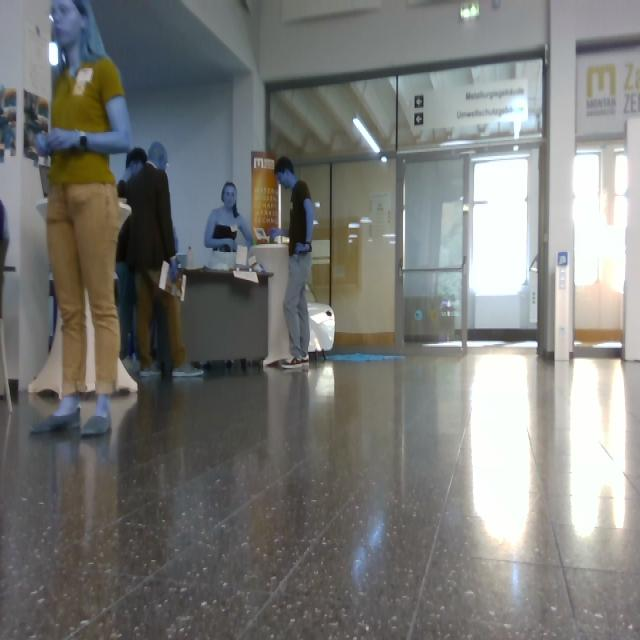desk: (182, 269, 273, 360)
door: (270, 58, 544, 357), (281, 186, 291, 230)
light bulb: (353, 117, 381, 153), (49, 41, 59, 66)
person: (35, 1, 132, 436), (127, 142, 203, 380), (276, 157, 315, 369), (205, 182, 253, 269), (117, 217, 139, 369), (119, 149, 147, 205)
pillar: (1, 1, 50, 389), (548, 1, 577, 362)
table: (252, 244, 290, 365), (29, 302, 62, 398), (80, 296, 99, 394), (117, 360, 137, 392), (121, 201, 131, 228), (37, 200, 48, 220)
tiled floor: (1, 348, 640, 640)
